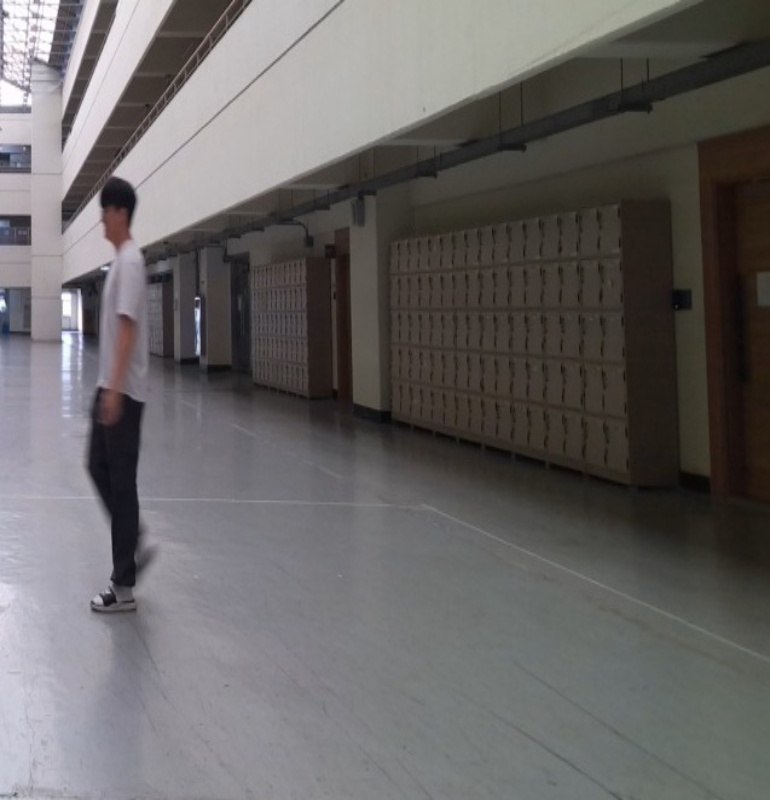person: (78, 172, 163, 616)
